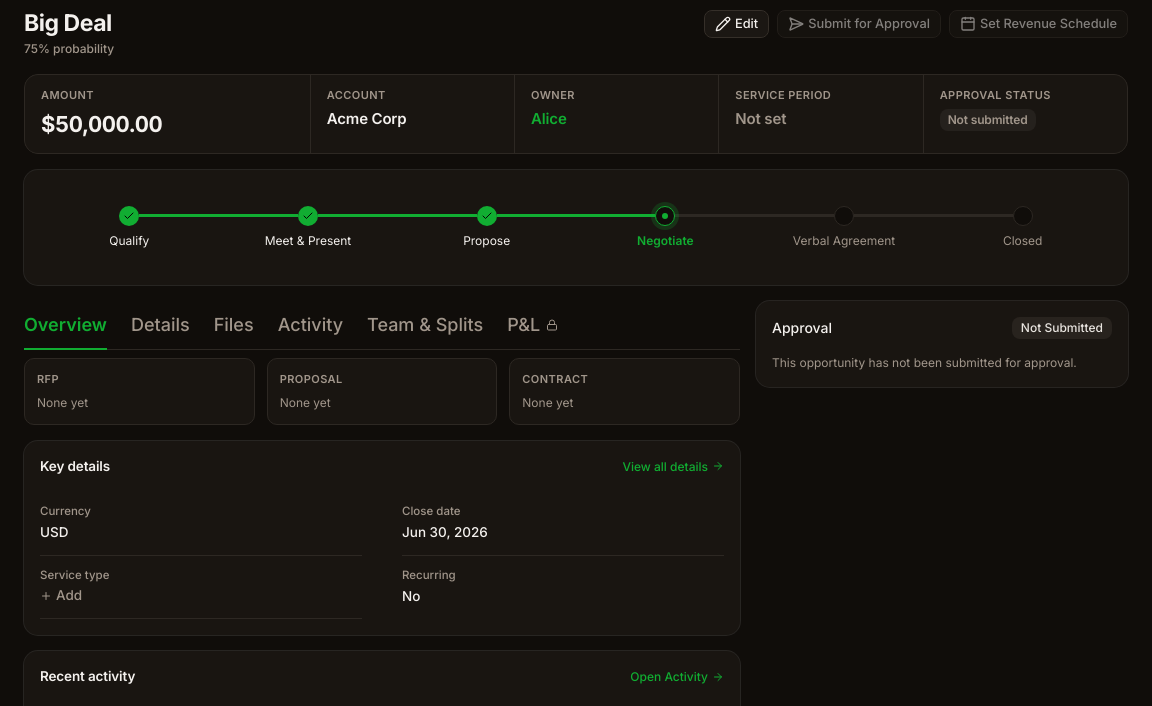
Test case: OpportunityDetailWrapper › overview tab (default) › 'View all details' jumps to the Details tab
Step 1. Click the button "View all details" → (673, 466), box x1=622 y1=458 x2=724 y2=475
(page scrolled)
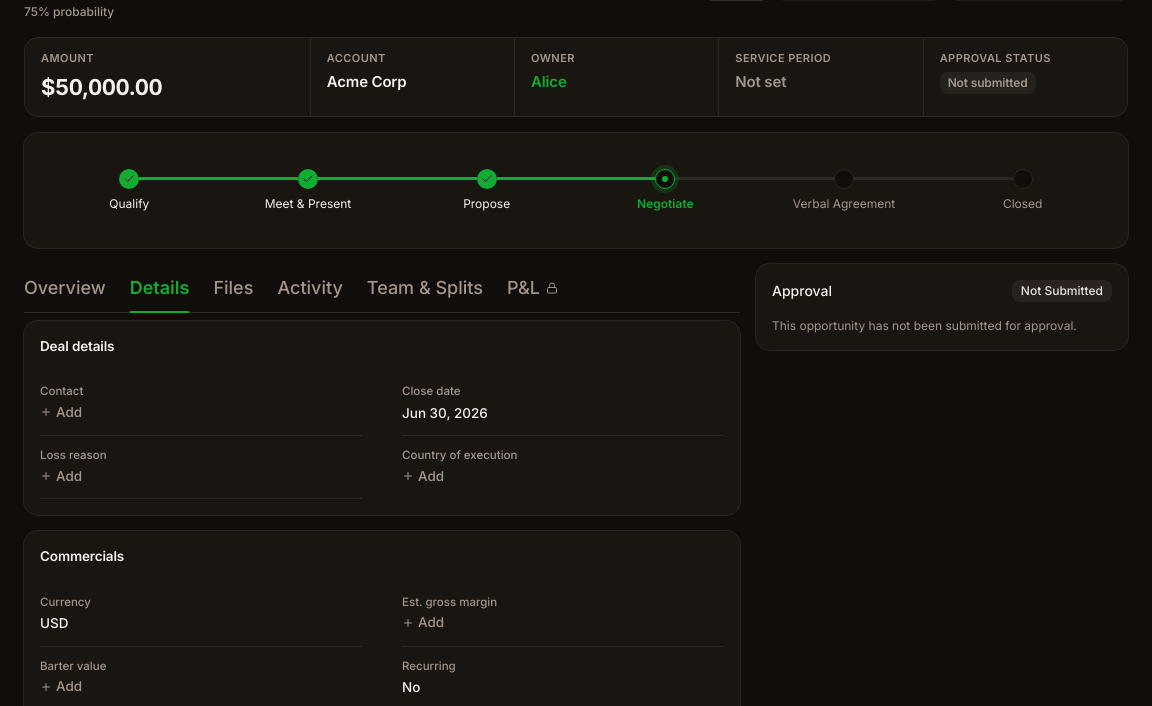
Expected: the text "Deal details" is shown, x1=40 y1=338 x2=114 y2=354
